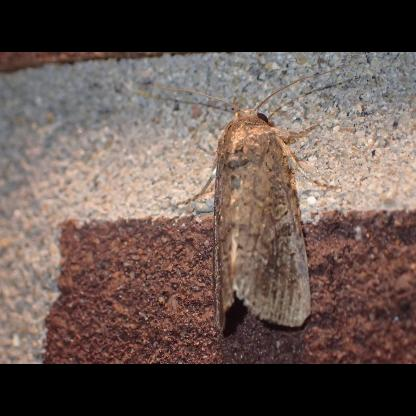Fall Armyworm Moth: (142, 61, 356, 339)
